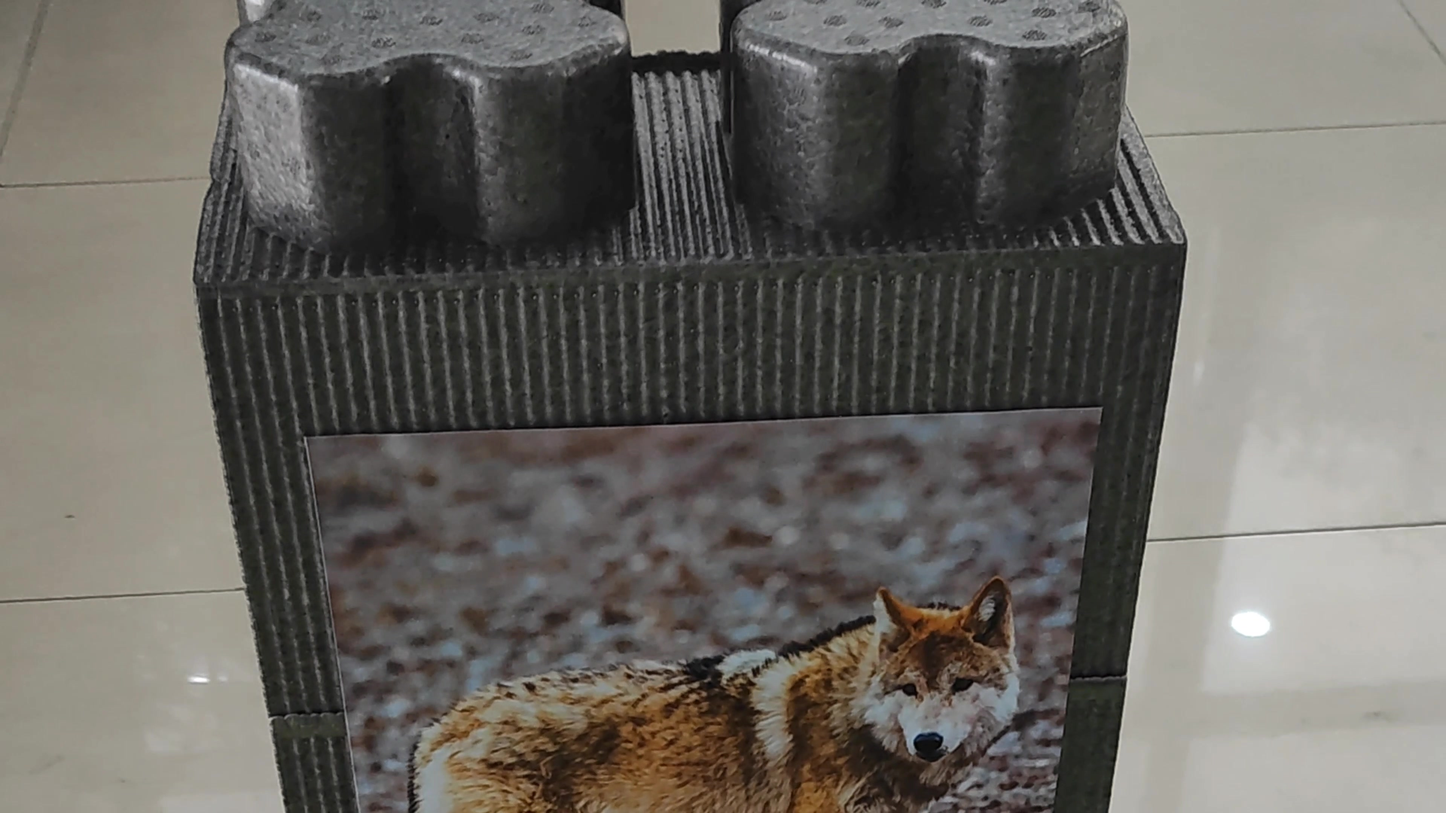wolf: (350, 532, 1053, 813)
